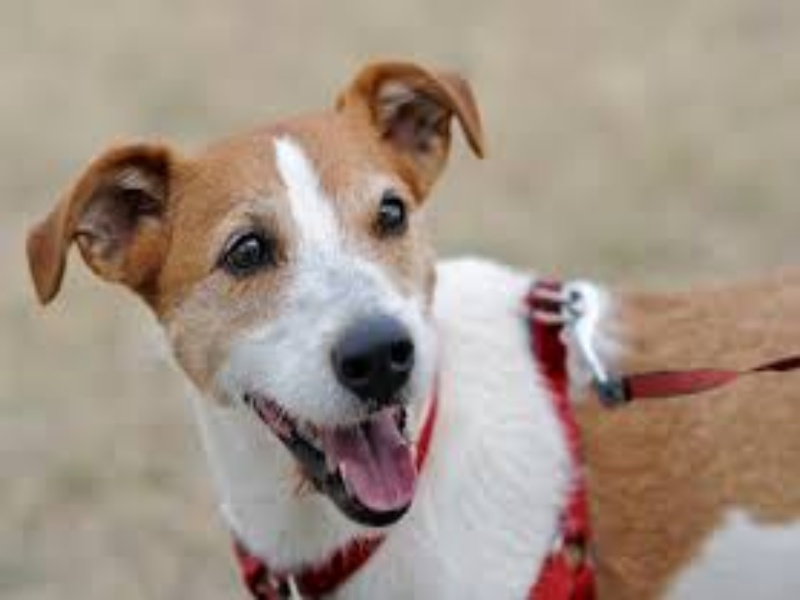dog: (19, 51, 762, 600)
